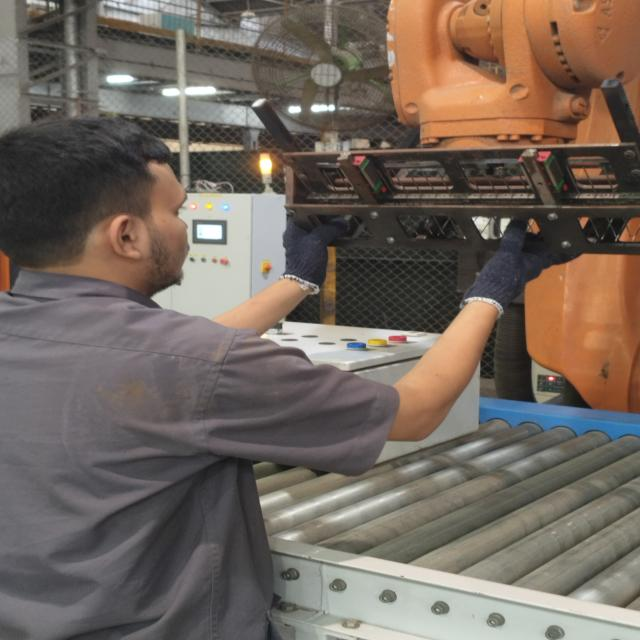Gloves-Detection: (268, 216, 342, 304), (475, 230, 534, 308)
